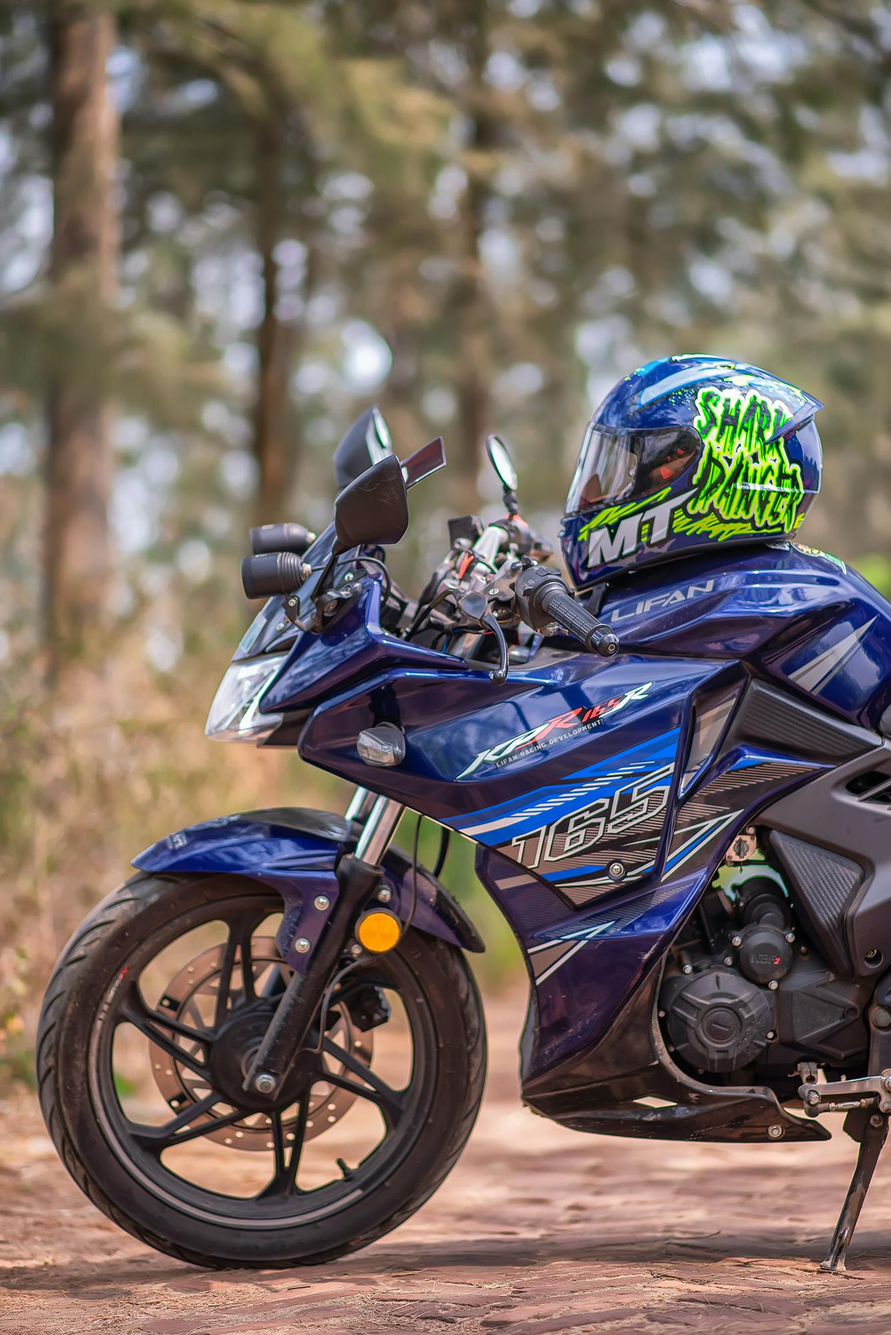helmet: (557, 351, 826, 594)
